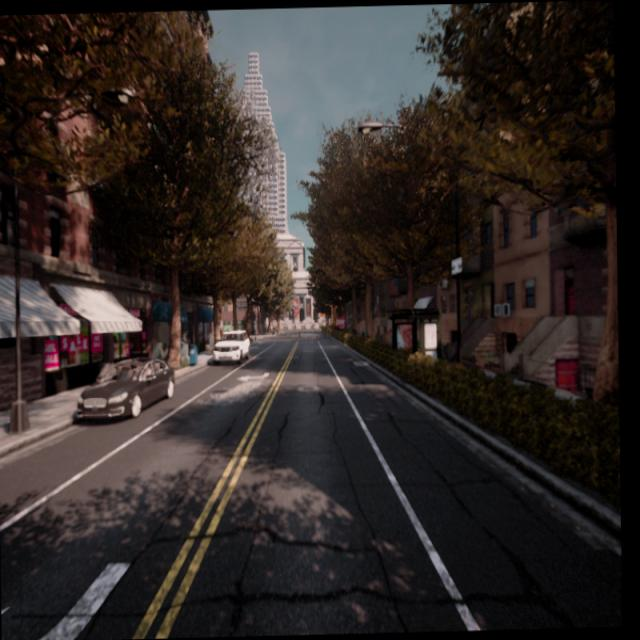stop sign: (334, 312, 347, 331)
